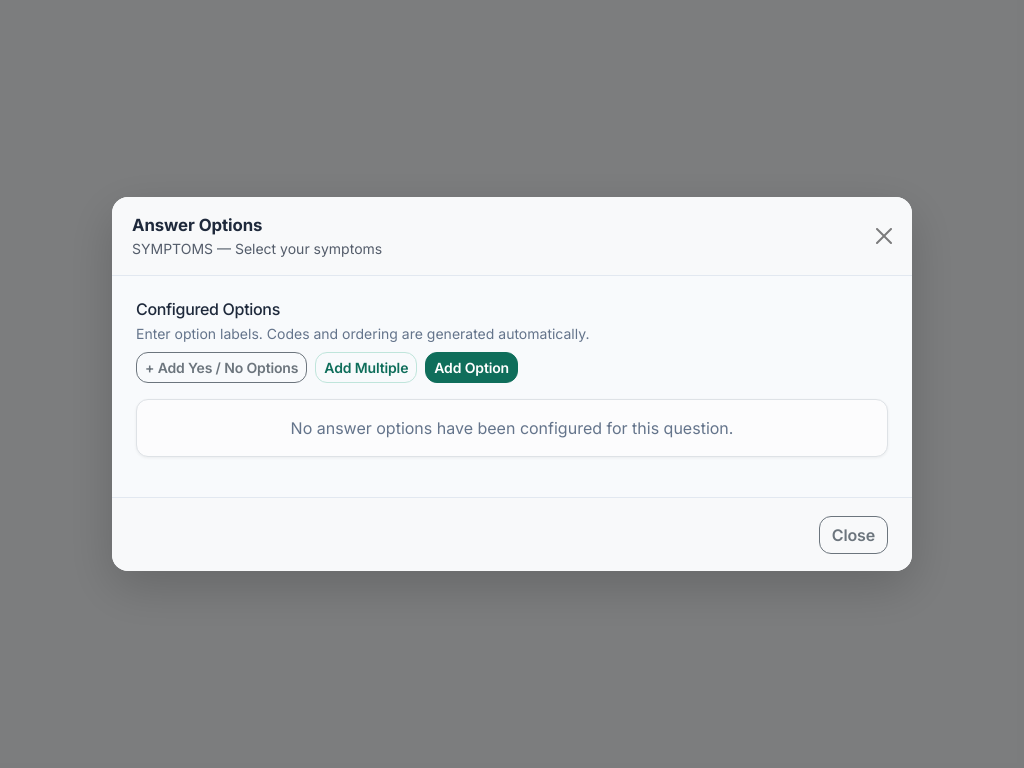
Scenario: AnswerOptionsModal › allows HCO to create an answer option by entering ONLY Label with auto-generated fields
The image size is (1024, 768).
Expected: the text "No answer options have been configured for this question." is shown, [136, 399, 888, 457]
Click the button "Add Option" at coordinates (472, 368), box [425, 352, 518, 383]
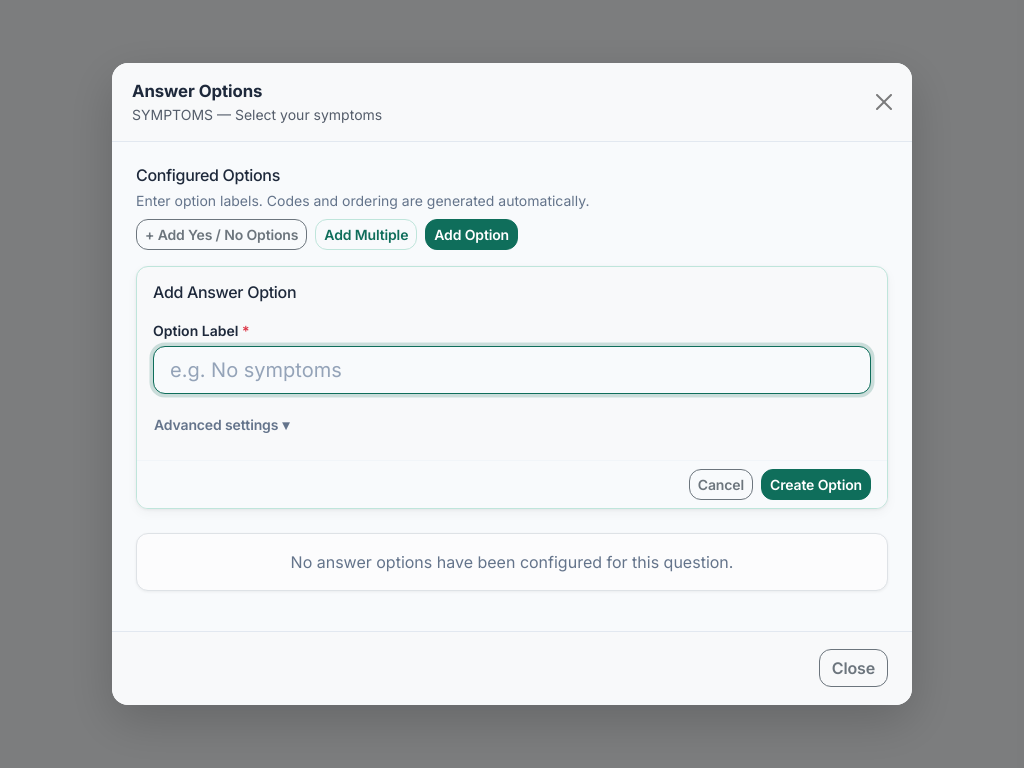
# Only Label input is required for the HCO
Type "No symptoms" into the field labelled "Label" at coordinates (512, 370), box [153, 346, 871, 394]
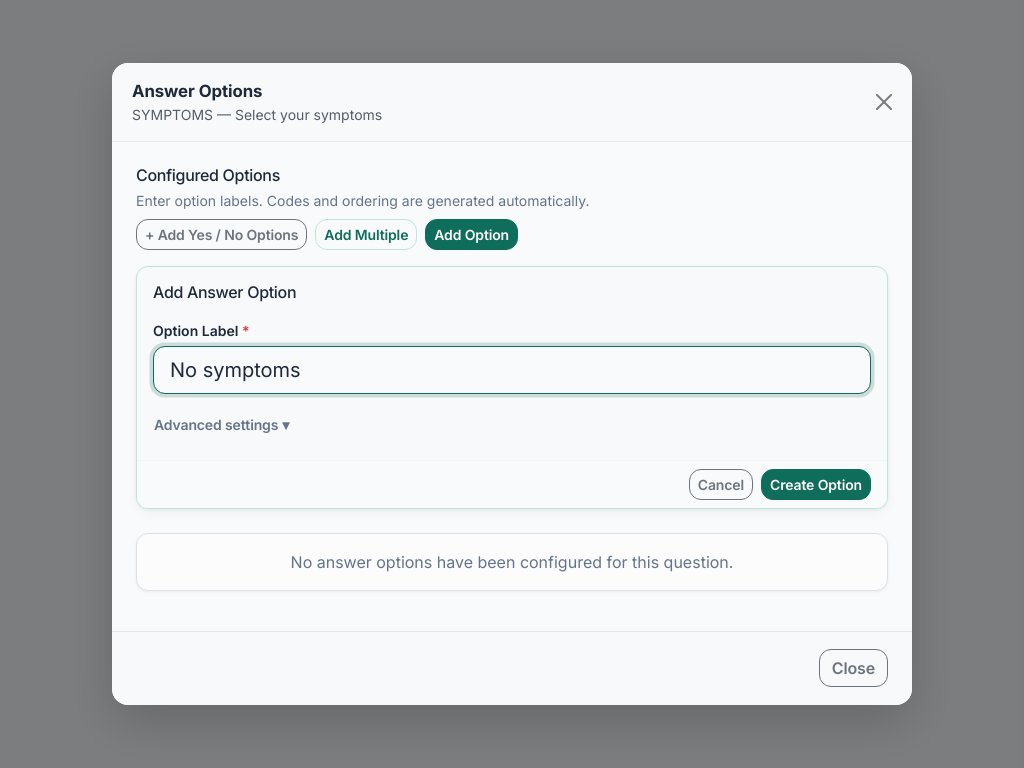
# Submit the form
Click the button "Create Option" at coordinates (816, 484), box [761, 468, 871, 500]
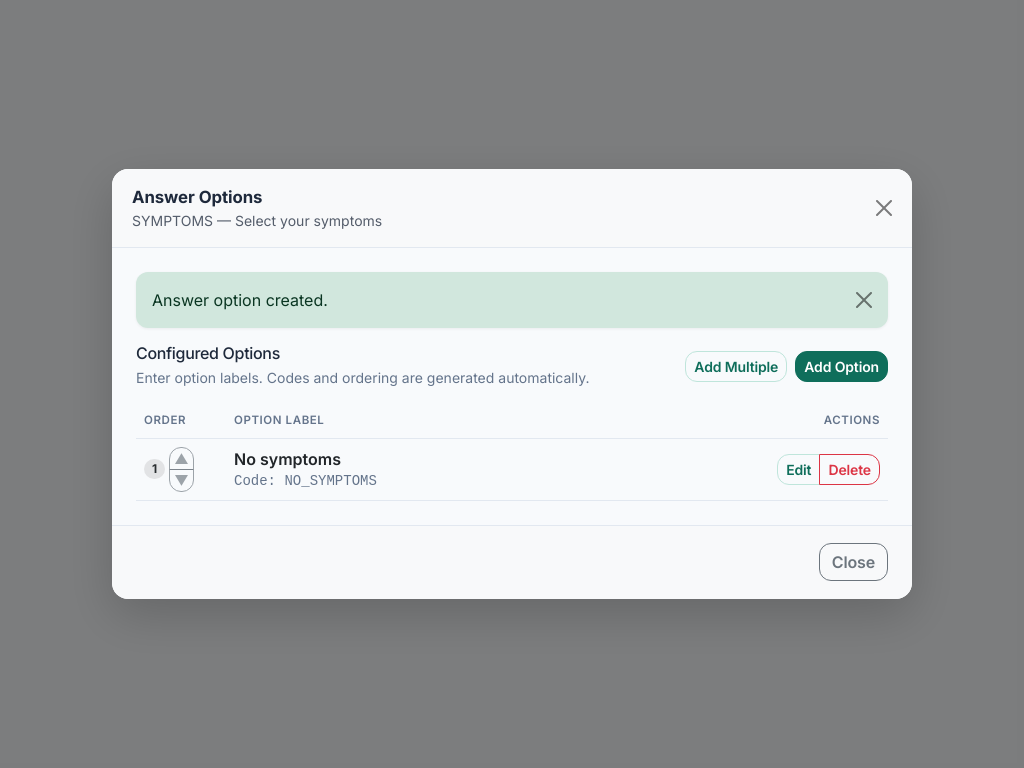
Now the text "Answer option created." is shown, box [136, 272, 888, 328]
